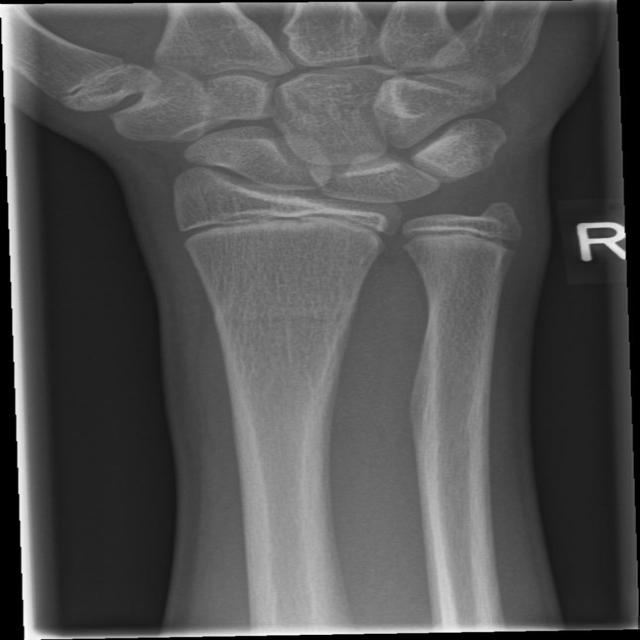fracture: (158, 193, 407, 264), (378, 205, 554, 268)
